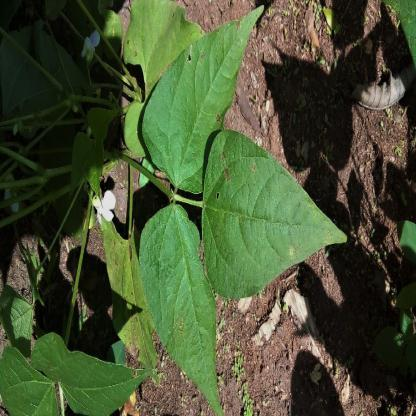Beans_Angular_LeafSpot: (214, 134, 304, 284), (152, 200, 210, 392), (169, 36, 245, 140)
